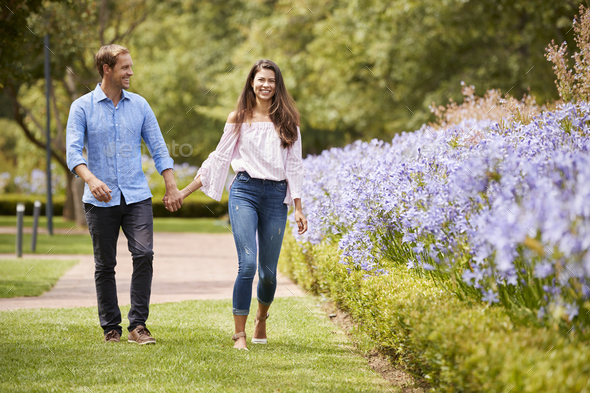Person: (172, 57, 310, 355), (64, 43, 184, 350)
